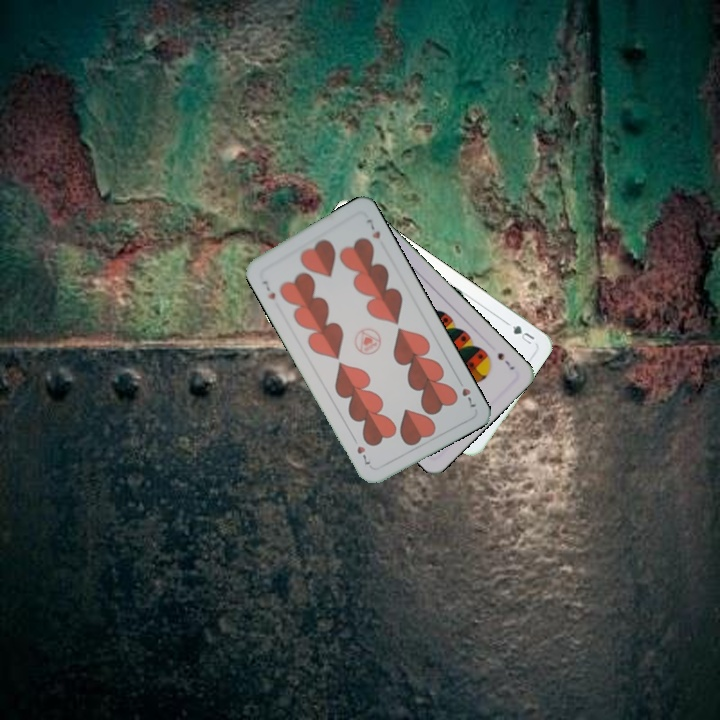GU: (502, 318, 537, 348)
H7: (453, 374, 479, 410), (258, 276, 278, 302)
S7: (494, 348, 517, 372)
